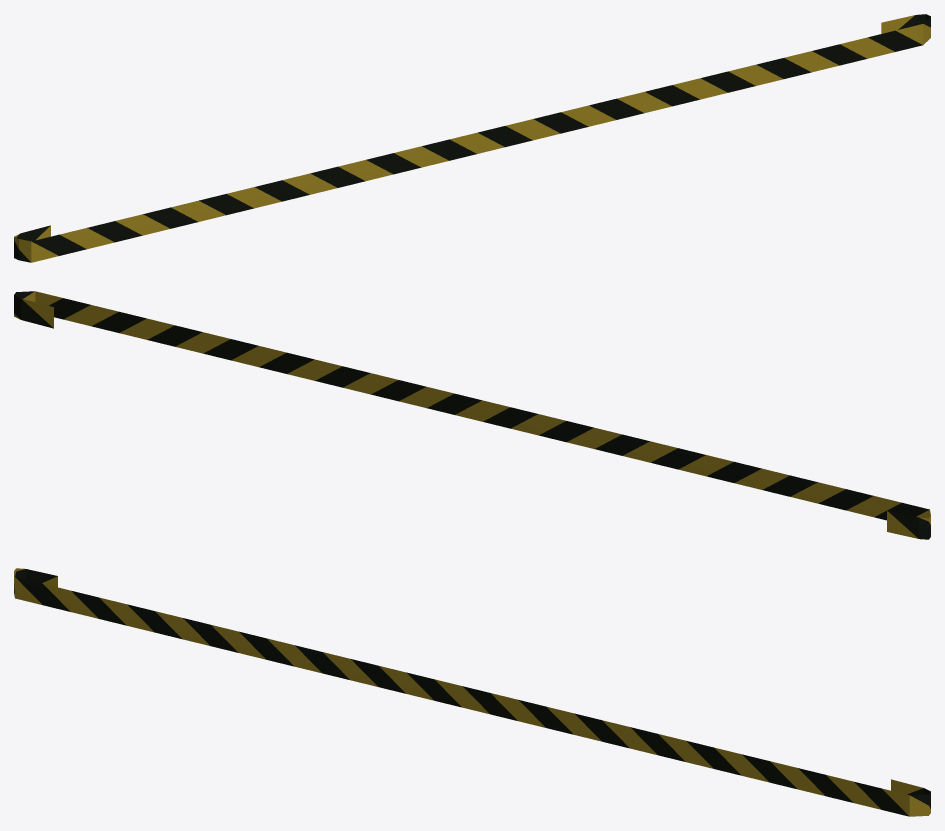
Rendered from Warning_Tape.glb.
3 renders of one model, top to bottom at view 1: azimuth 30°, elevation 25°; view 2: azimuth 150°, elevation 25°; view 3: azimuth 330°, elevation 25°, orthographic.
Parts seen in each view (by area): view 1: tape; view 2: tape; view 3: tape.
Boxes of the visible parts, x1,y1,x2,y2 form: tape: (14,14,930,262); tape: (14,291,930,539); tape: (14,568,930,816).
Size of what is drawn, in the model's own units: 6.12 by 0.1373 by 0.1351.
Materials: 1 (1 with a texture image).
